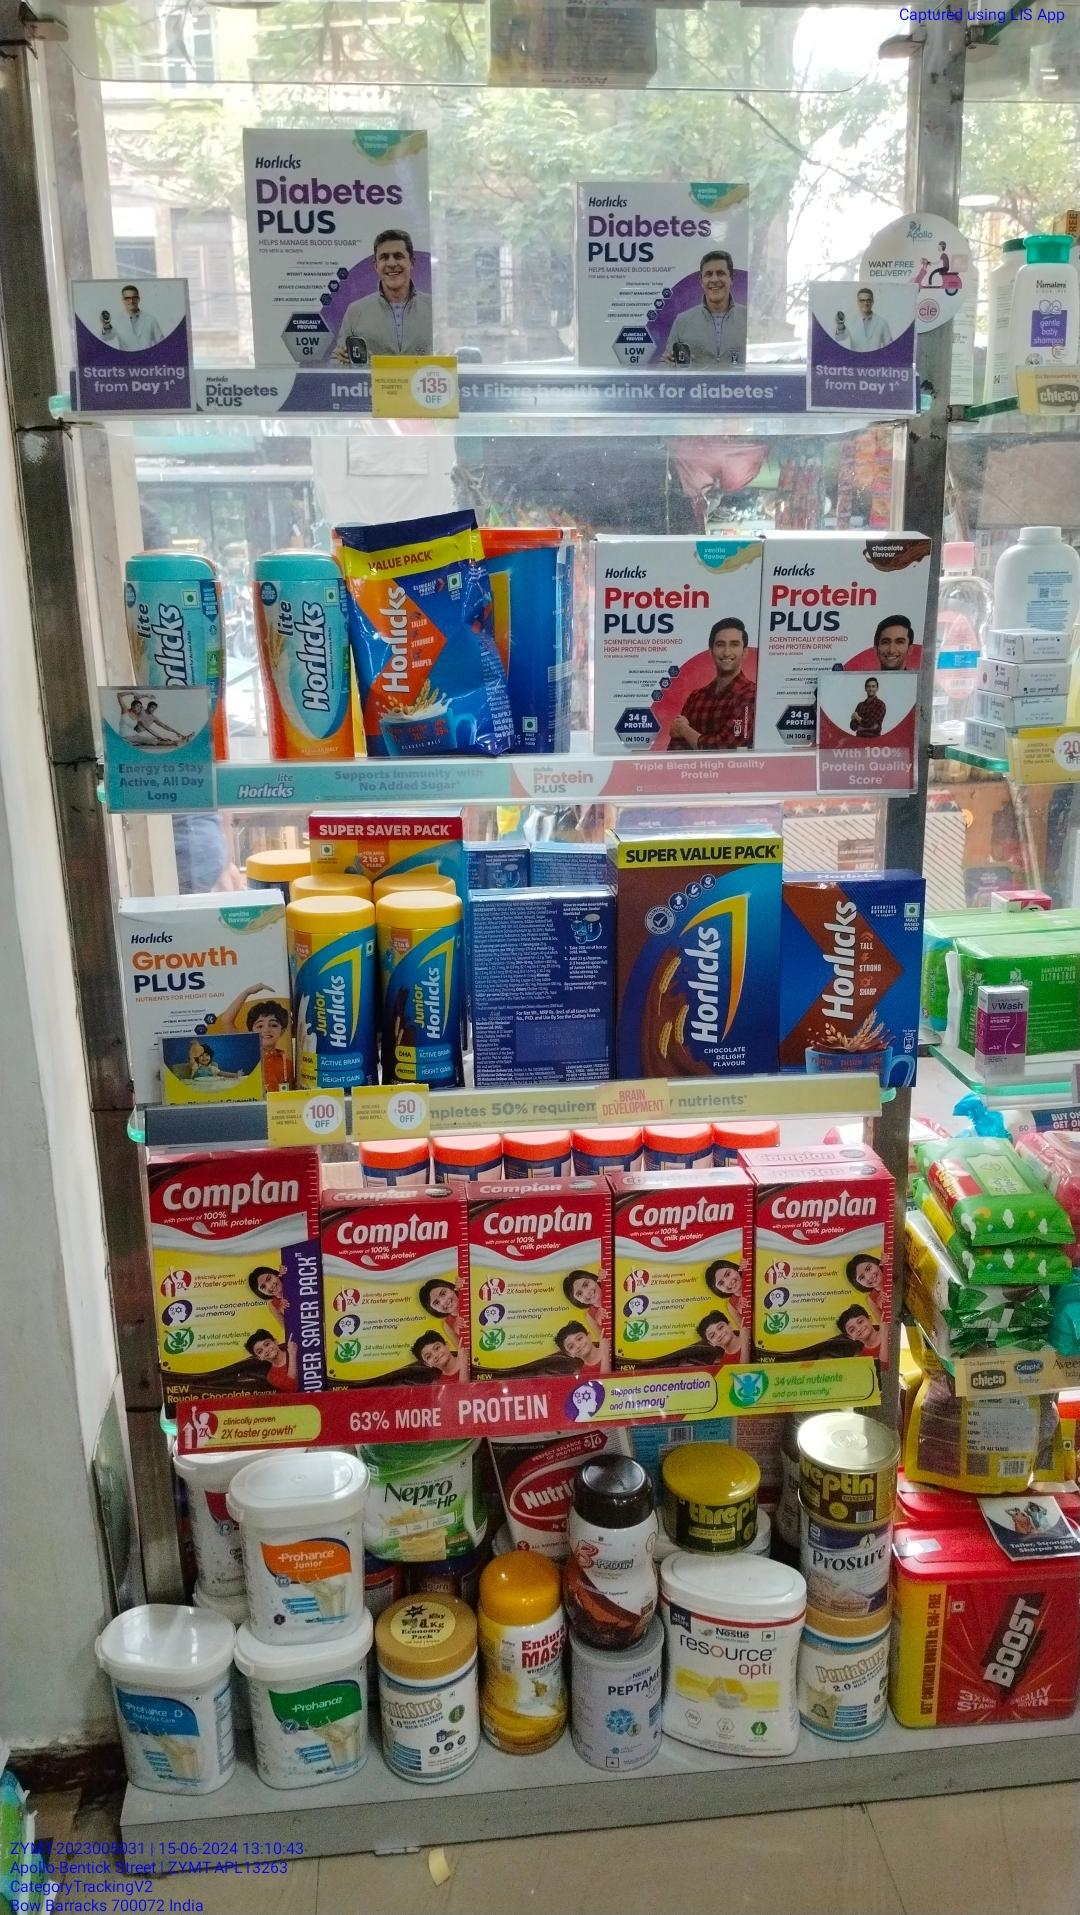COMPLAN_CHOCOLATE_1_KG_PACK: (153, 1163, 321, 1399)
COMPLAN_CHOCOLATE_500_GMS_PACK: (470, 1198, 612, 1373), (325, 1209, 464, 1384), (756, 1181, 888, 1353), (617, 1196, 750, 1365)
HORLICKS_JUNIOR_VANILLA_500_GM_JAR: (289, 905, 376, 1085)
HORLICK_CHOCOLATE_500_G_PACK: (783, 886, 923, 1073)
